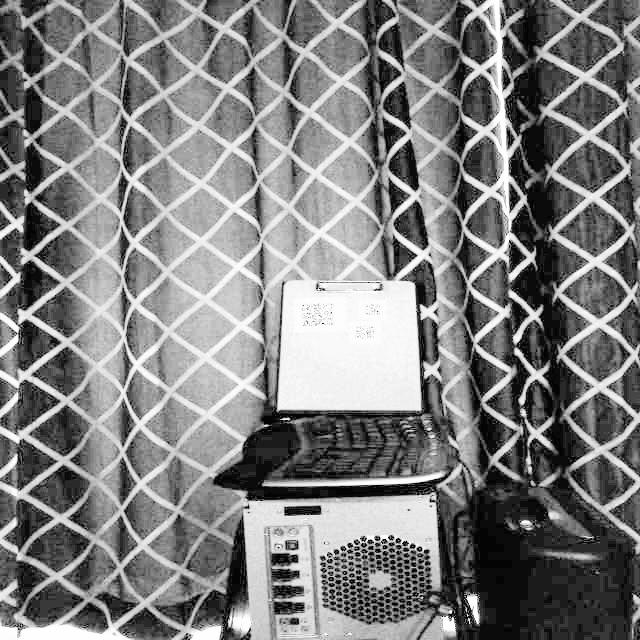qr_code: (295, 298, 339, 331), (351, 323, 388, 346), (360, 299, 386, 319)
